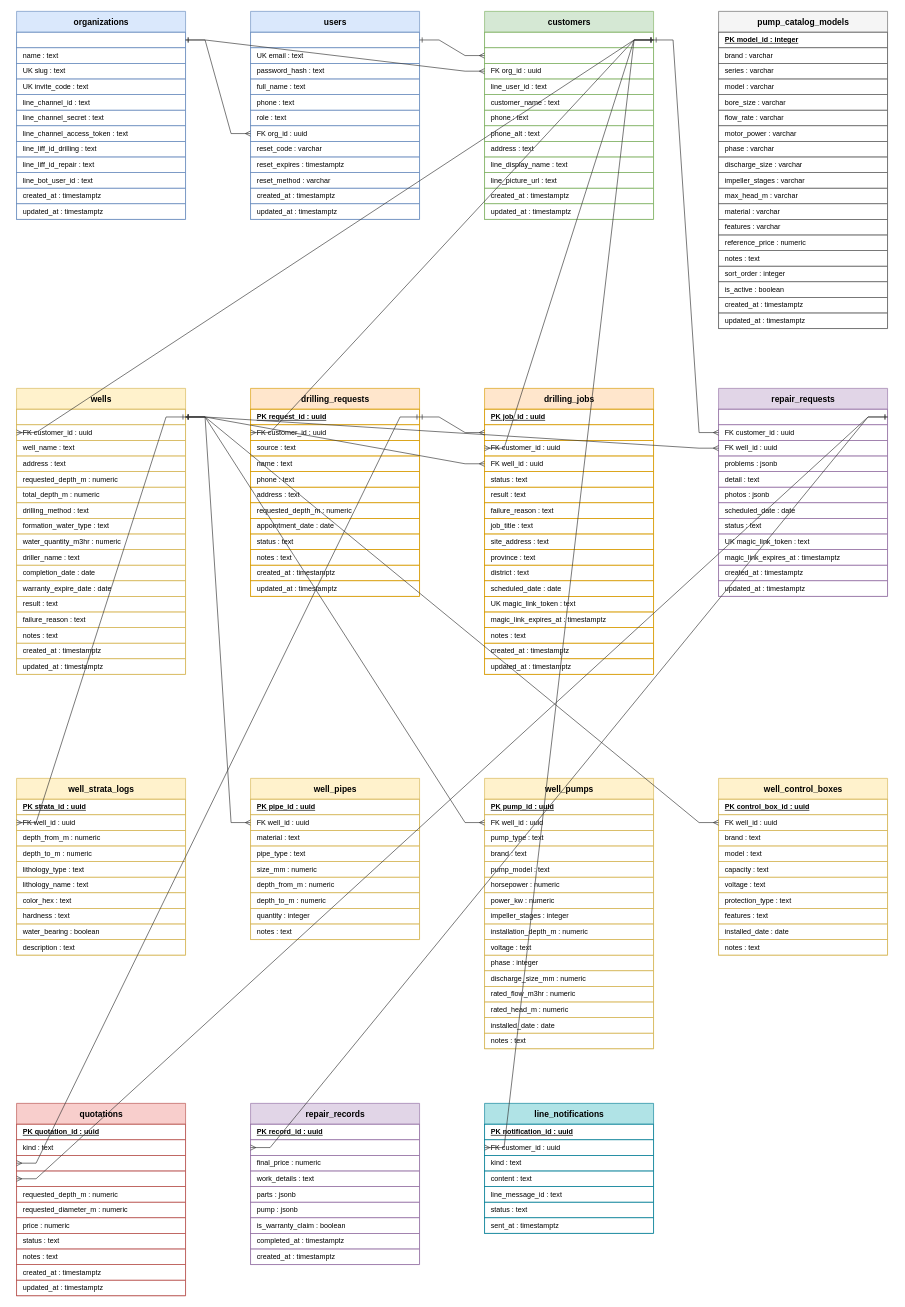
The diagram is 905 pixels wide and 1307 high, and some of its shapes have lost their labels. Each missing label, with the centre of its shape:
"FK drilling_request_id : uuid" belongs at (101,1163).
"FK repair_id : uuid" belongs at (335,1147).
"FK repair_request_id : uuid" belongs at (101,1178).
"FK request_id : uuid" belongs at (569,432).
"FK user_id : uuid" belongs at (569,55).
"PK customer_id : uuid" belongs at (569,40).
"PK org_id : uuid" belongs at (101,40).
"PK repair_id : uuid" belongs at (803,417).
"PK user_id : uuid" belongs at (335,40).
"PK well_id : uuid" belongs at (101,417).
